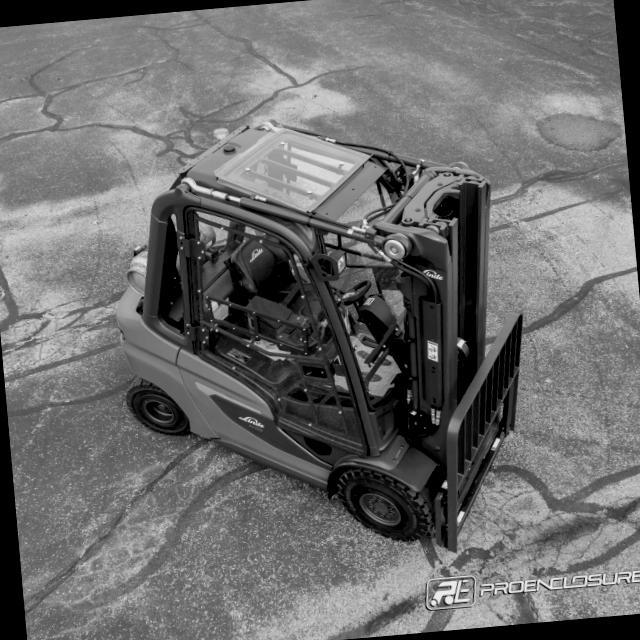forklift: (88, 86, 550, 584)
